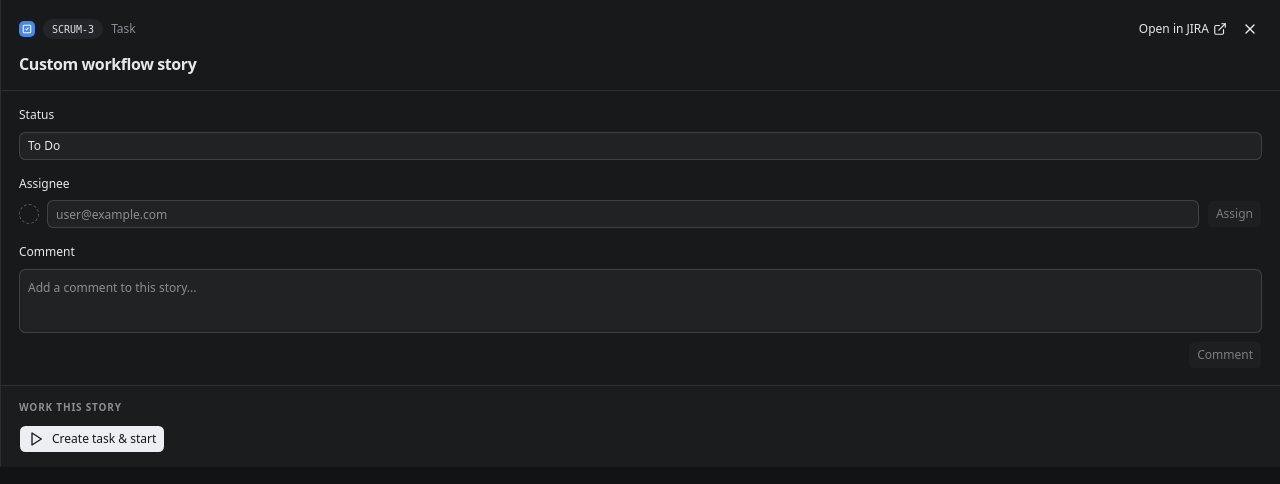
Test: JiraWorkItemPanel status dropdown › falls back to board-derived options when not connected
The width and height of the screenshot is (1280, 484).
Click the dropdown named "status": point(44, 145) x1=19 y1=132 x2=1262 y2=160
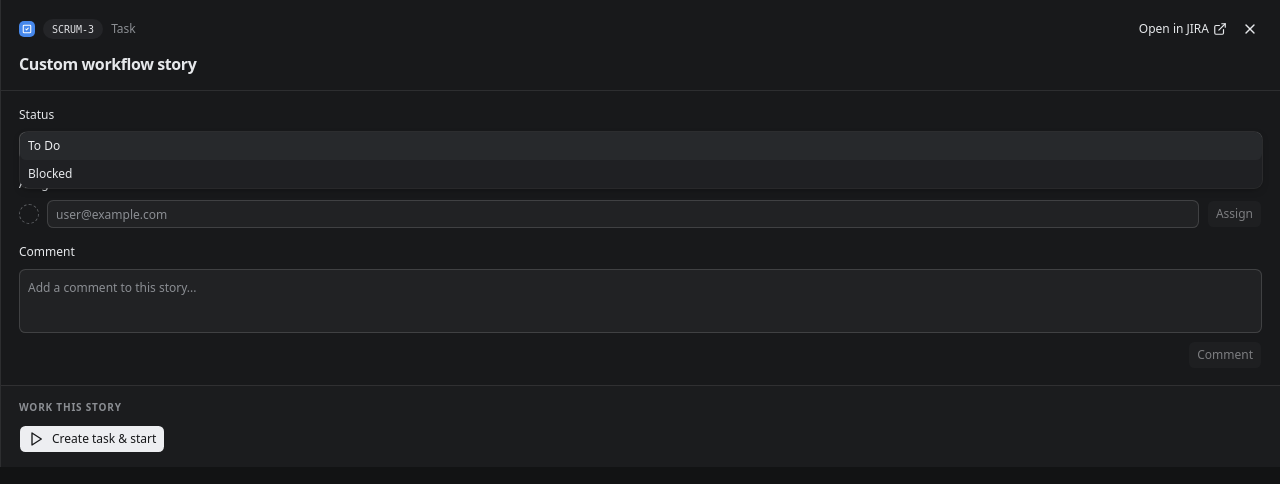
Now the option "Blocked" is shown, box x1=28 y1=165 x2=72 y2=182
